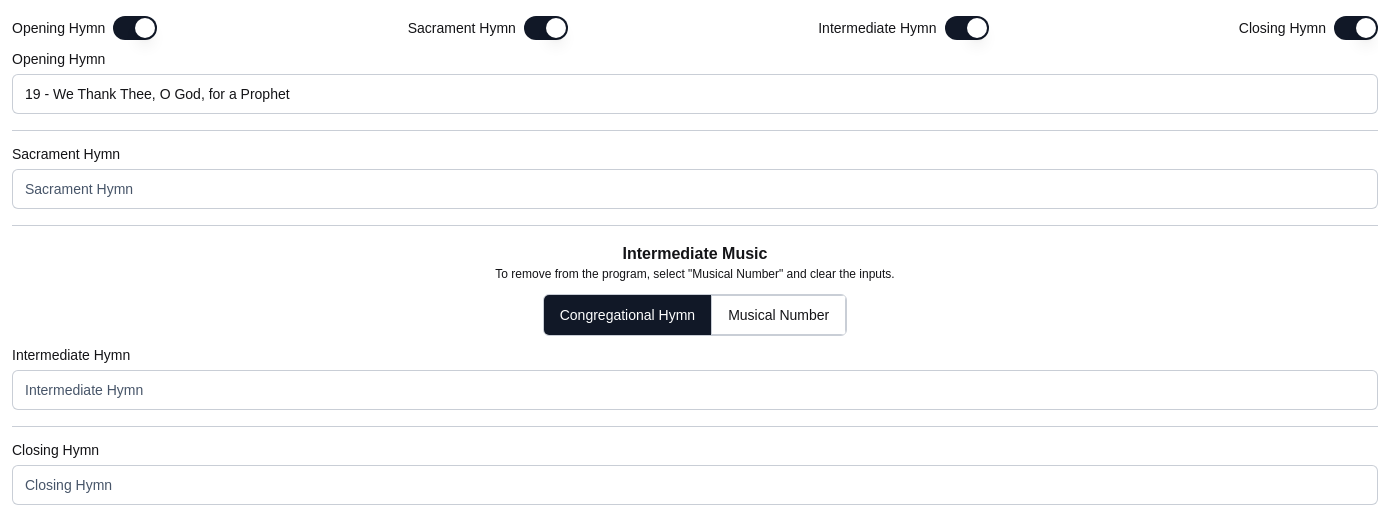
Test: MusicEditor hymn selection › opens a deep options list on first focus, even with an existing selection
This screenshot has width=1390, height=522.
Click the field with id "openingHymn" at point(695, 94), box [12,74,1378,114]
(page scrolled)
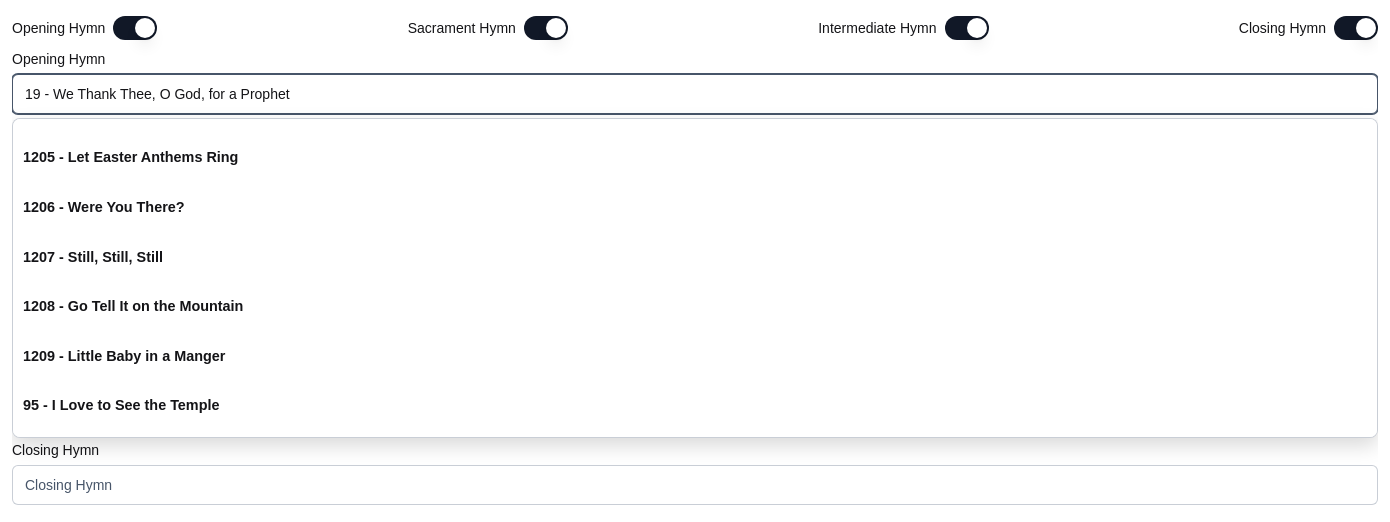
Expected: the list named "Opening hymn options" is shown
